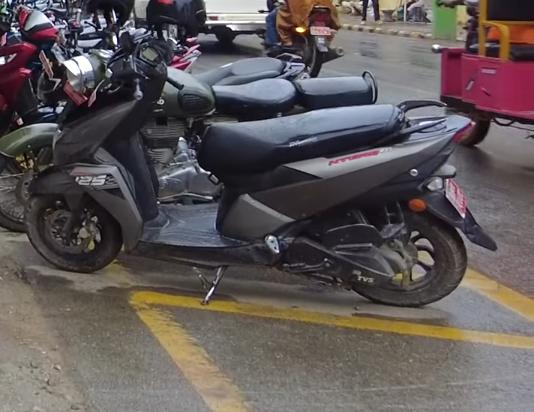scooter: (0, 0, 499, 317)
